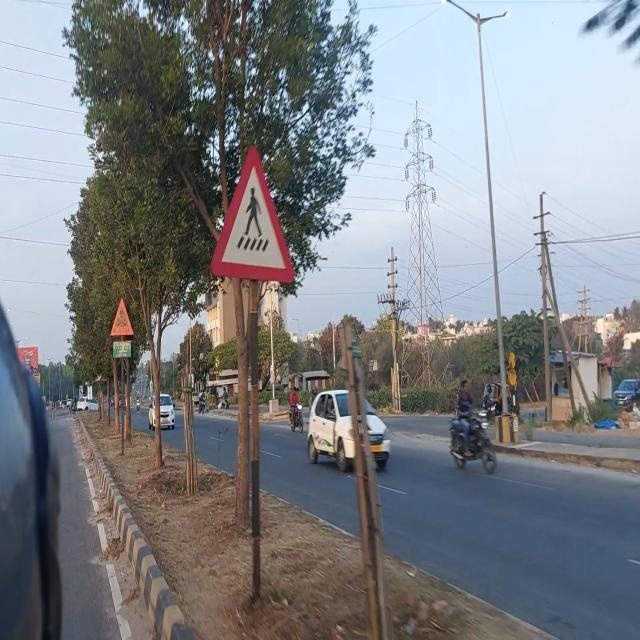bien_nguy_hiem: (209, 140, 297, 286), (109, 297, 134, 336)
